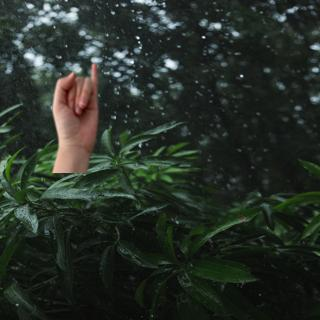Fine: (45, 57, 106, 171)
